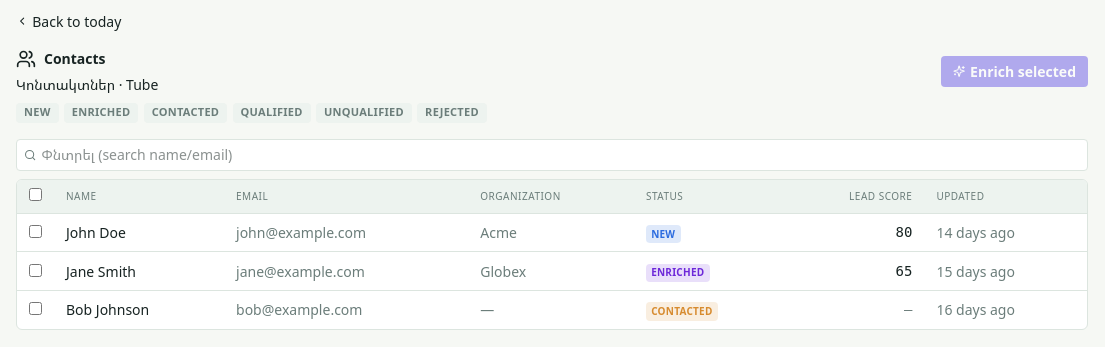
ContactsWorkspace — status chips › clicking 'enriched' filters to enriched contacts only
The width and height of the screenshot is (1105, 347).
Click the button with test id "tube-status-chip-enriched" at (101, 112), box [64,102,138,122]
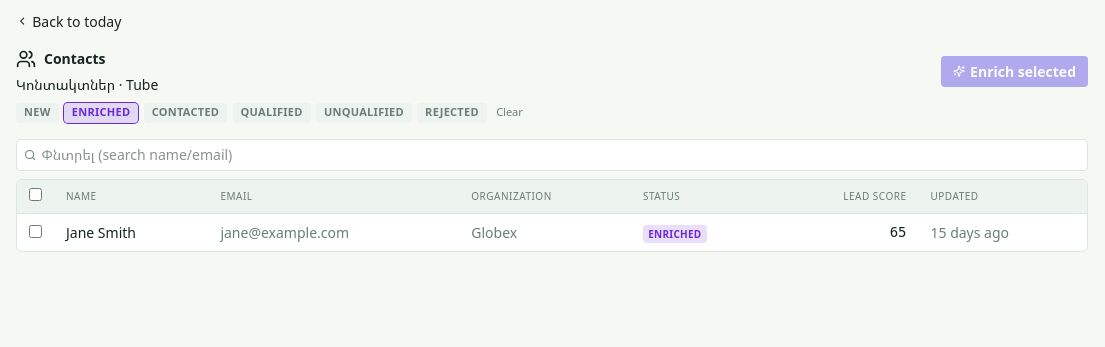
Expected: the link "Jane Smith" is shown, [66,223,136,242]
Expected: the number of rows with test id "tube-contact-row" is 1, [17,213,1087,251]
